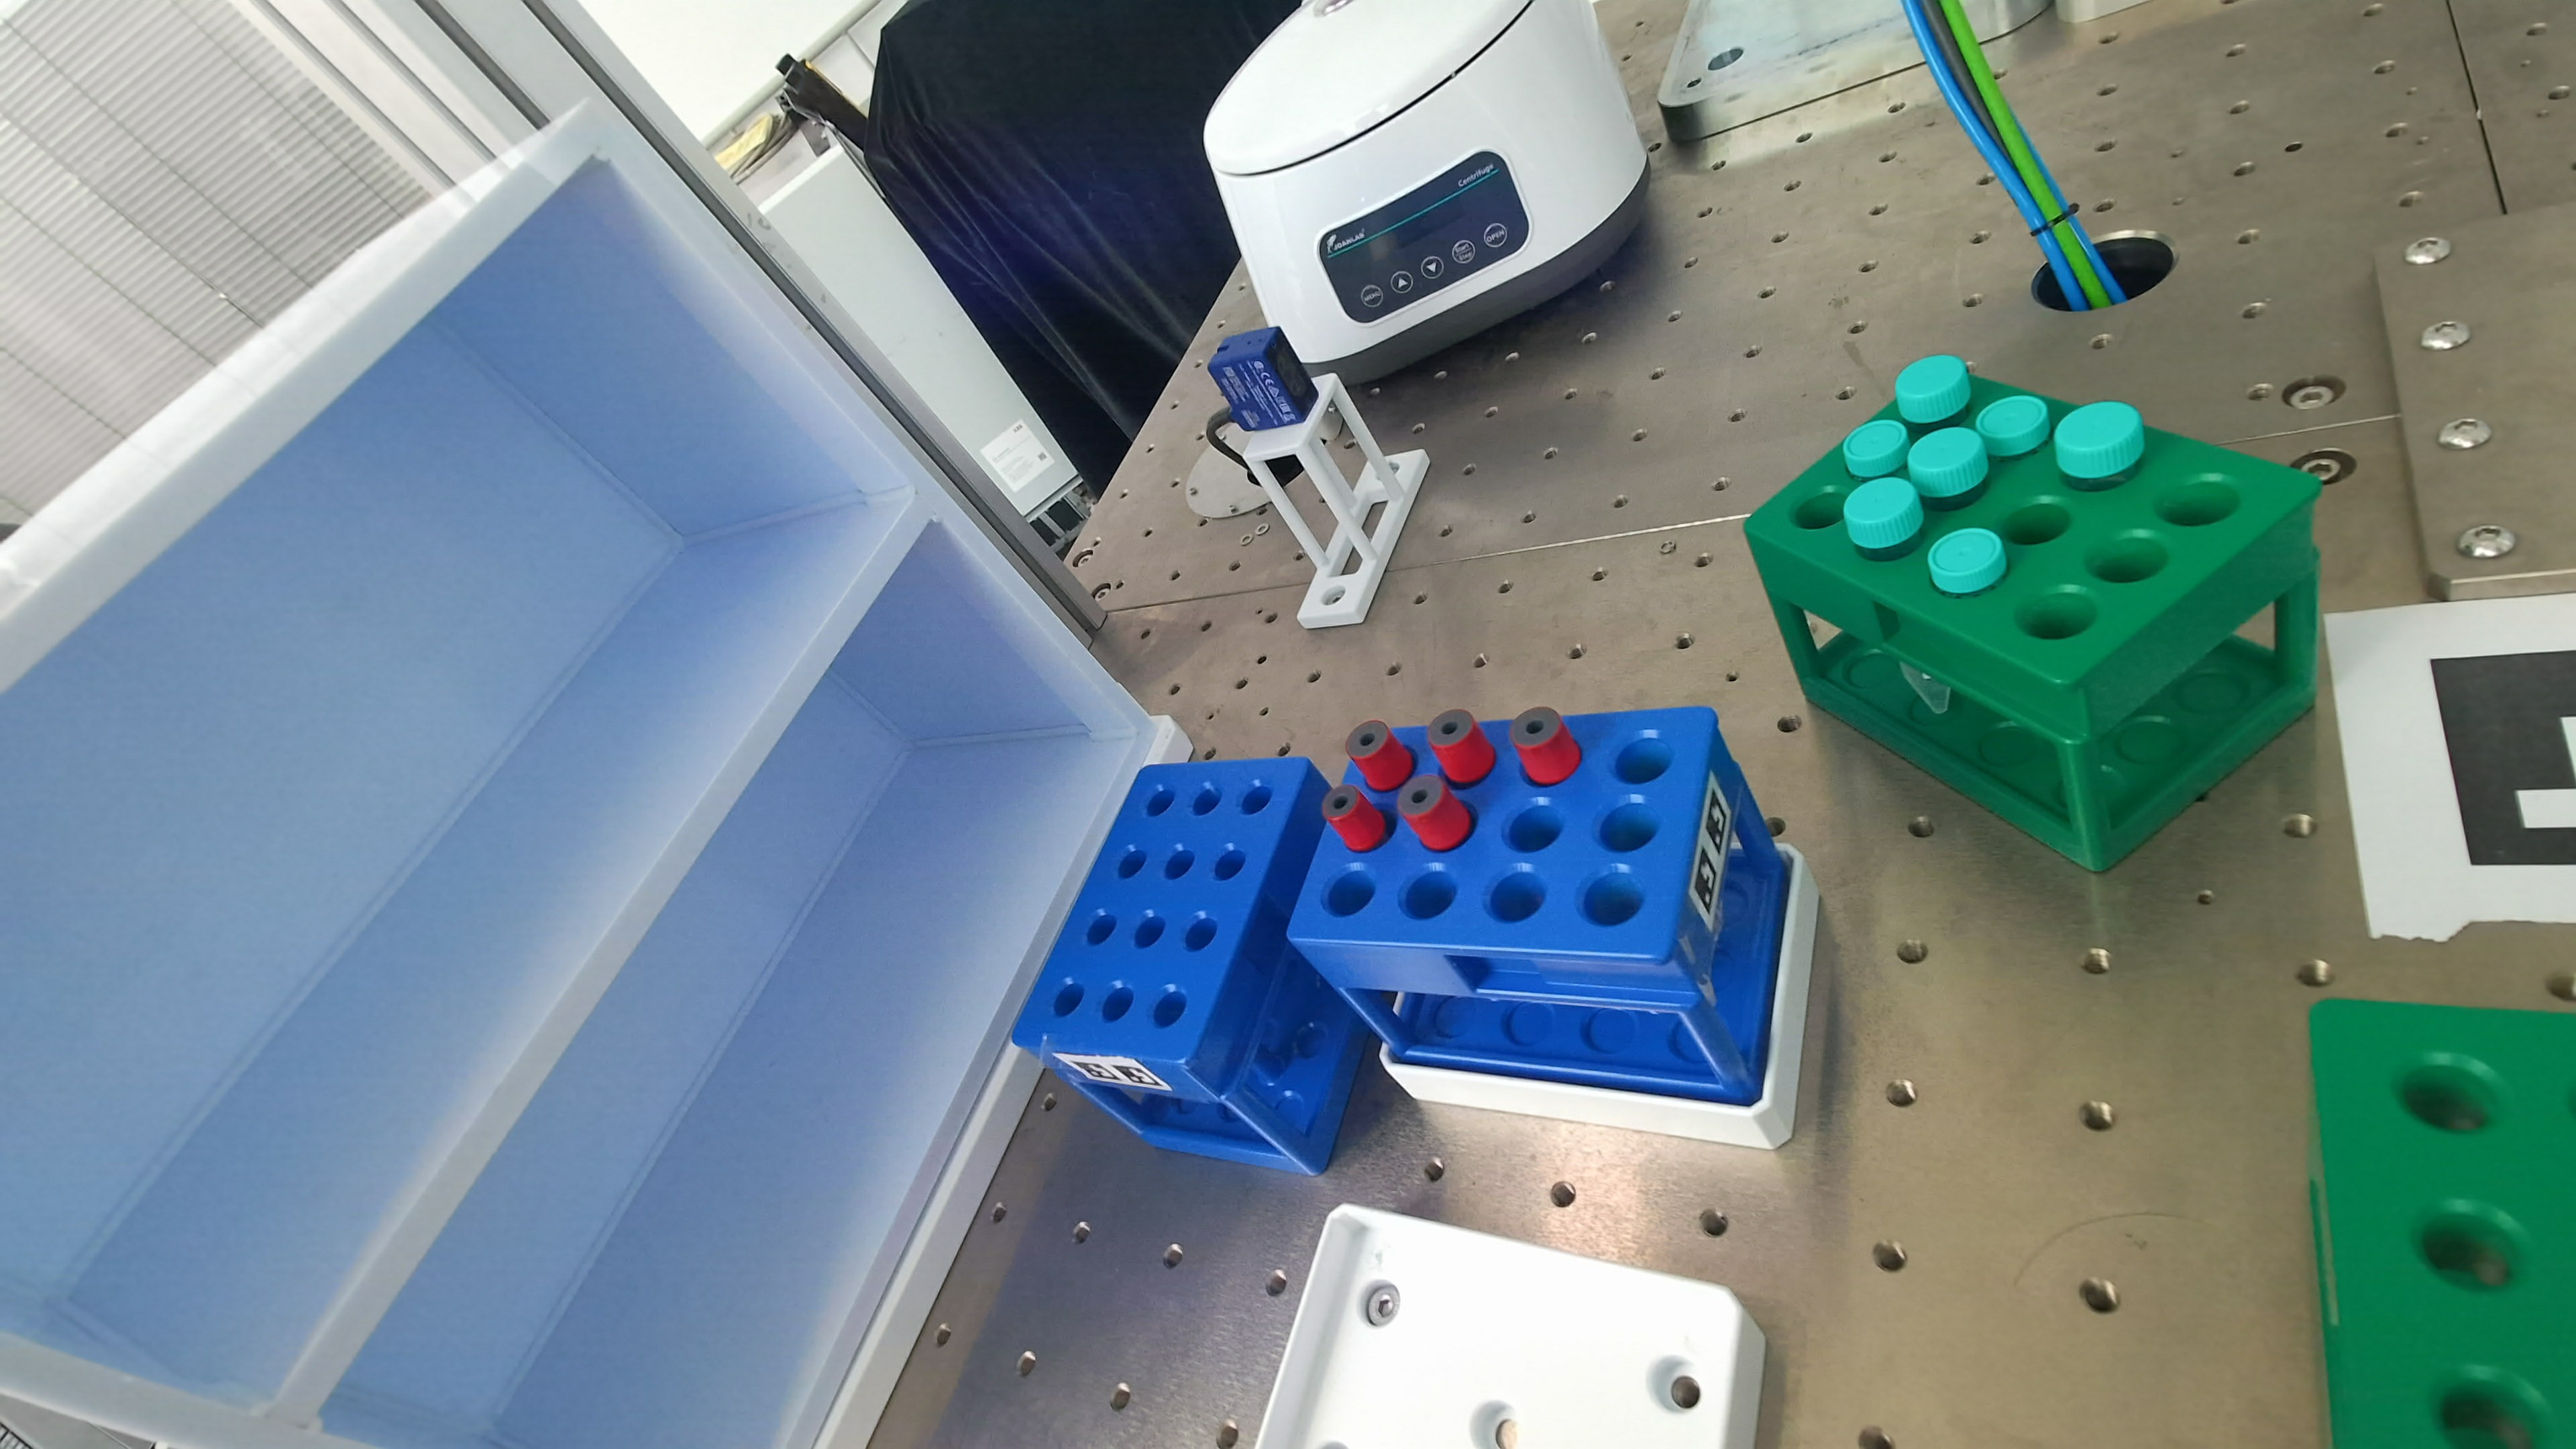10ML_centrifuge_tube: (2054, 402, 2144, 481), (1907, 426, 1989, 501), (1844, 478, 1923, 552), (1895, 356, 1971, 425)
10ML_sorting_tube_rack: (1288, 708, 1792, 1106), (1014, 757, 1364, 1173)
5ML_centrifuge_tube: (1927, 527, 2006, 596), (1976, 395, 2051, 458), (1842, 419, 1909, 479)
5ML_sorting_tube_rack: (1746, 379, 2321, 870), (2309, 1000, 2576, 1447)
blood_tube: (1396, 775, 1472, 851), (1509, 706, 1580, 784), (1426, 709, 1495, 786), (1346, 720, 1414, 791), (1322, 784, 1387, 851)
centrifuge_close: (1205, 0, 1647, 386)
sorting_tube_rack_base: (1380, 844, 1819, 1150), (1258, 1205, 1766, 1449)
tube_rack_storage_cabinet: (0, 97, 1161, 1444)
